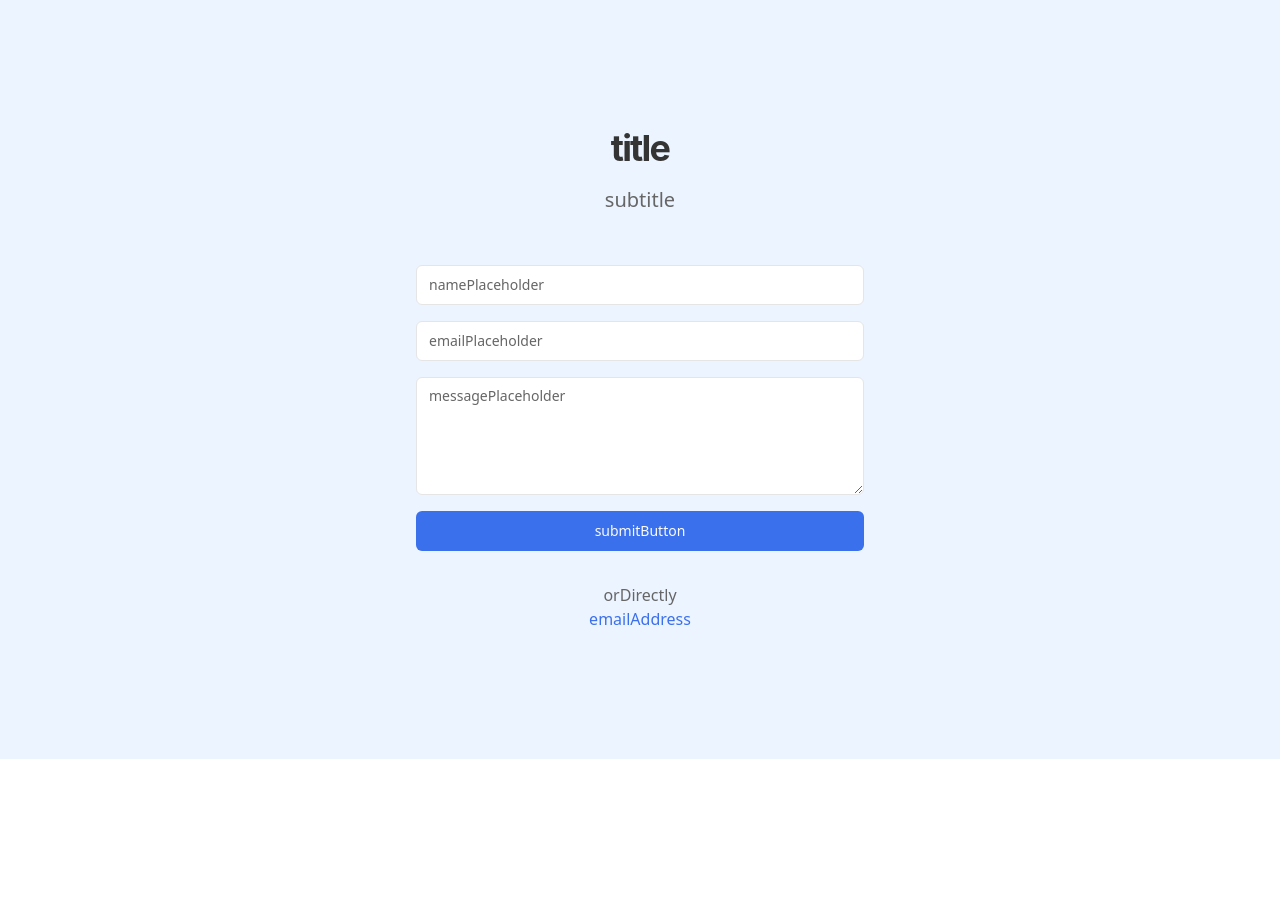
Test: ContactSection deep coverage › handles failed submit with field errors
The width and height of the screenshot is (1280, 900).
Type "John Doe" into the field with placeholder "namePlaceholder".
click(640, 284); type("John Doe")  # box [416, 264, 864, 304]
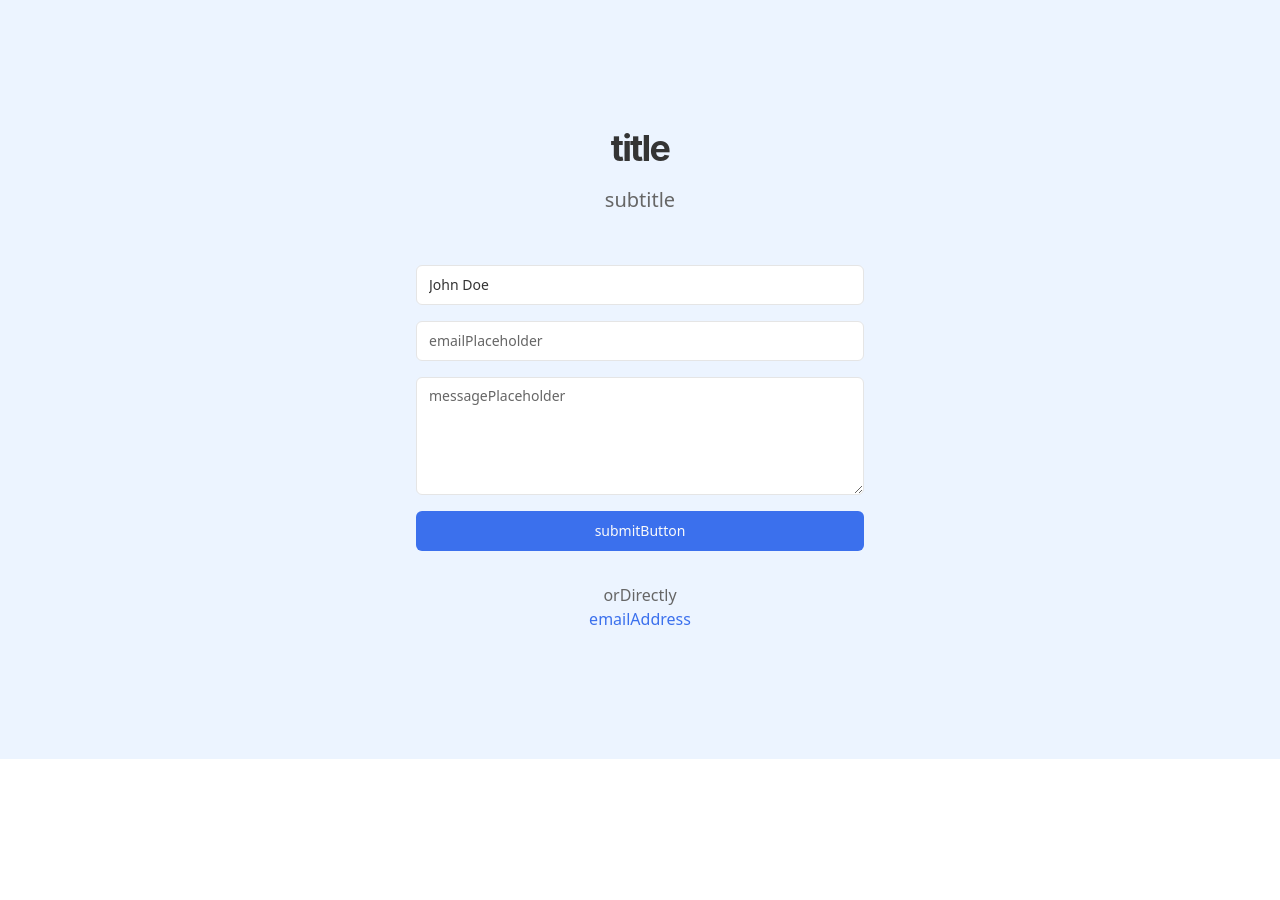
Type "john@example.com" into the field with placeholder "emailPlaceholder".
click(640, 340); type("john@example.com")  # box [416, 320, 864, 360]
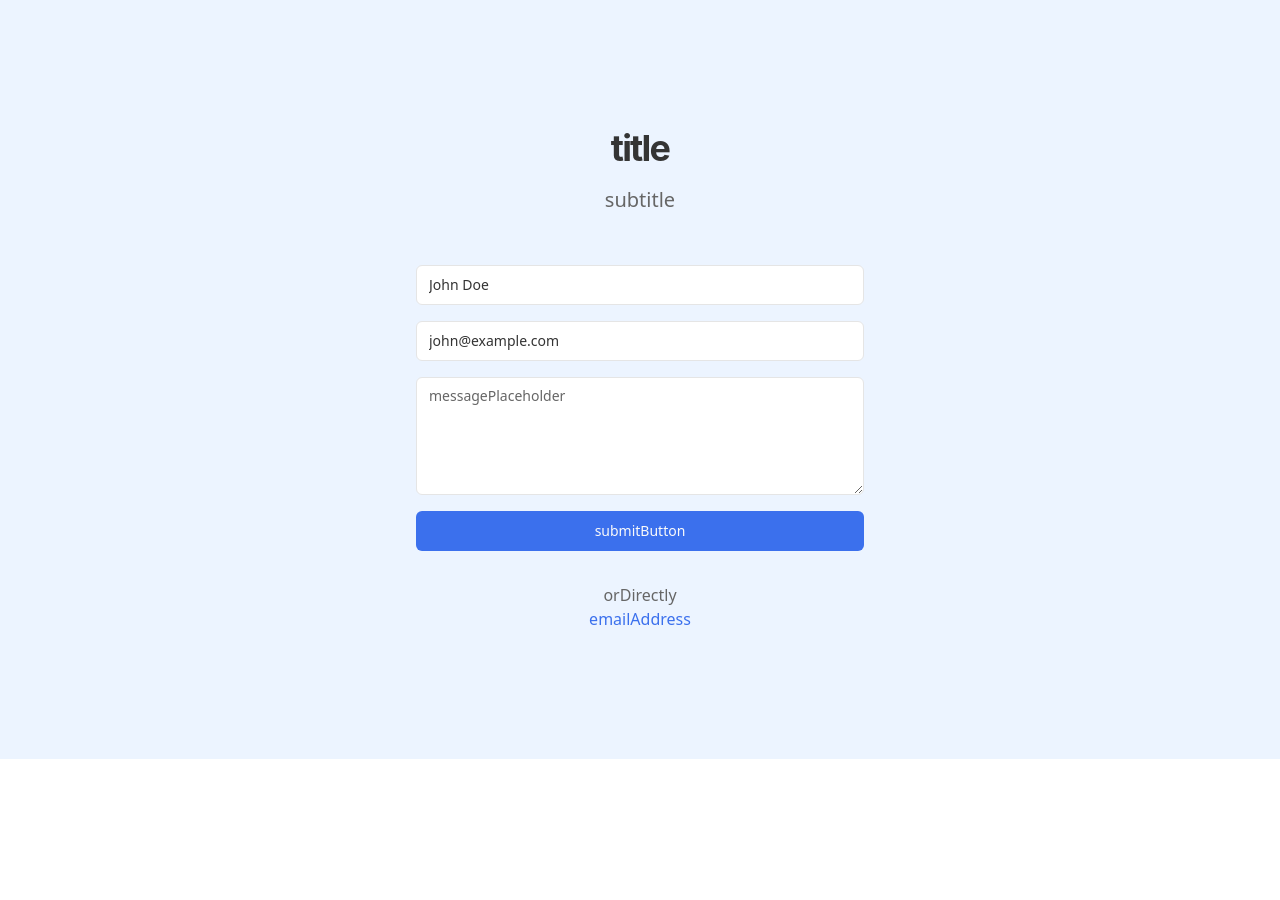
Type "This is a valid message." into the text box with placeholder "messagePlaceholder".
click(640, 436); type("This is a valid message.")  # box [416, 376, 864, 494]
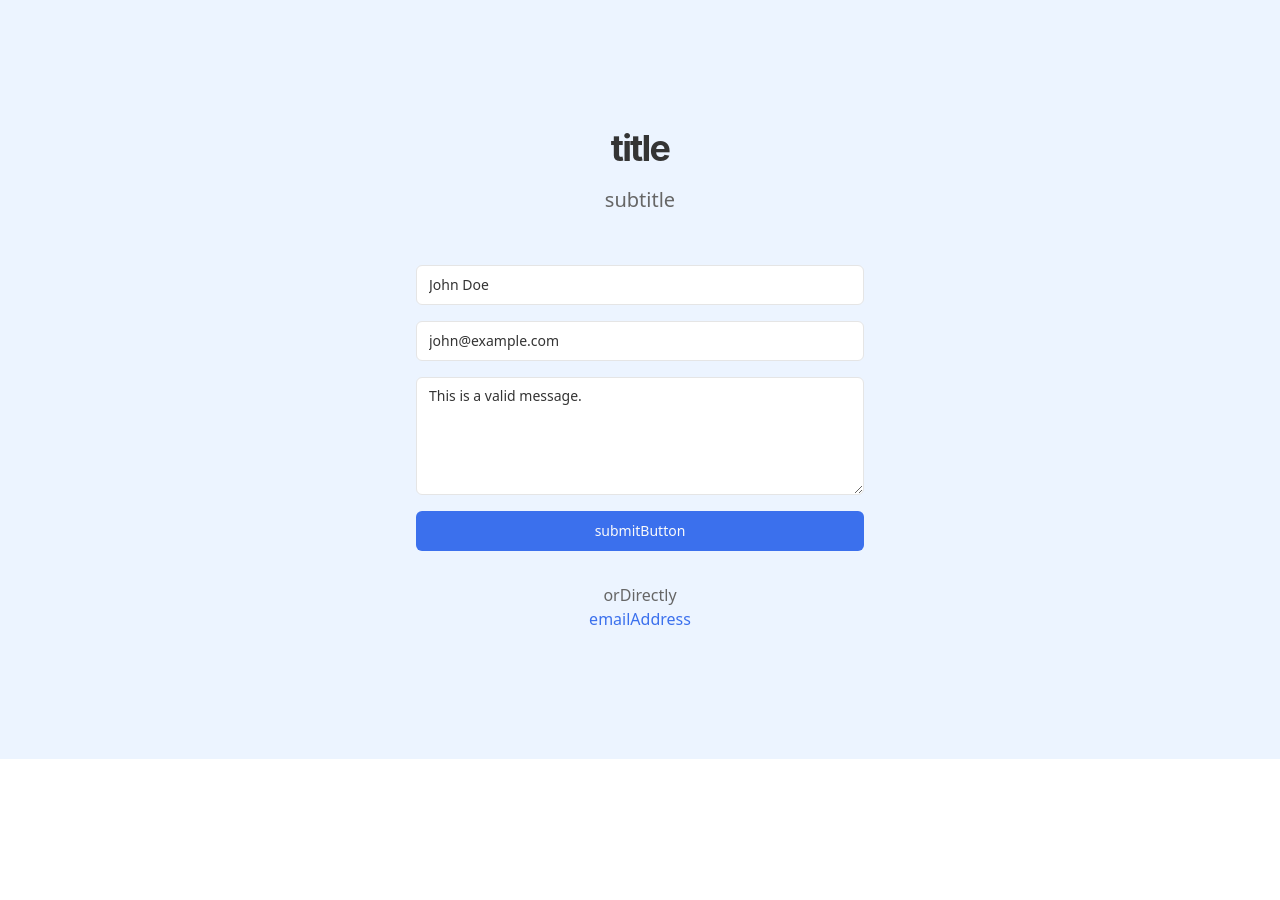
Click the button "submitButton".
click(640, 530)  # box [416, 510, 864, 550]
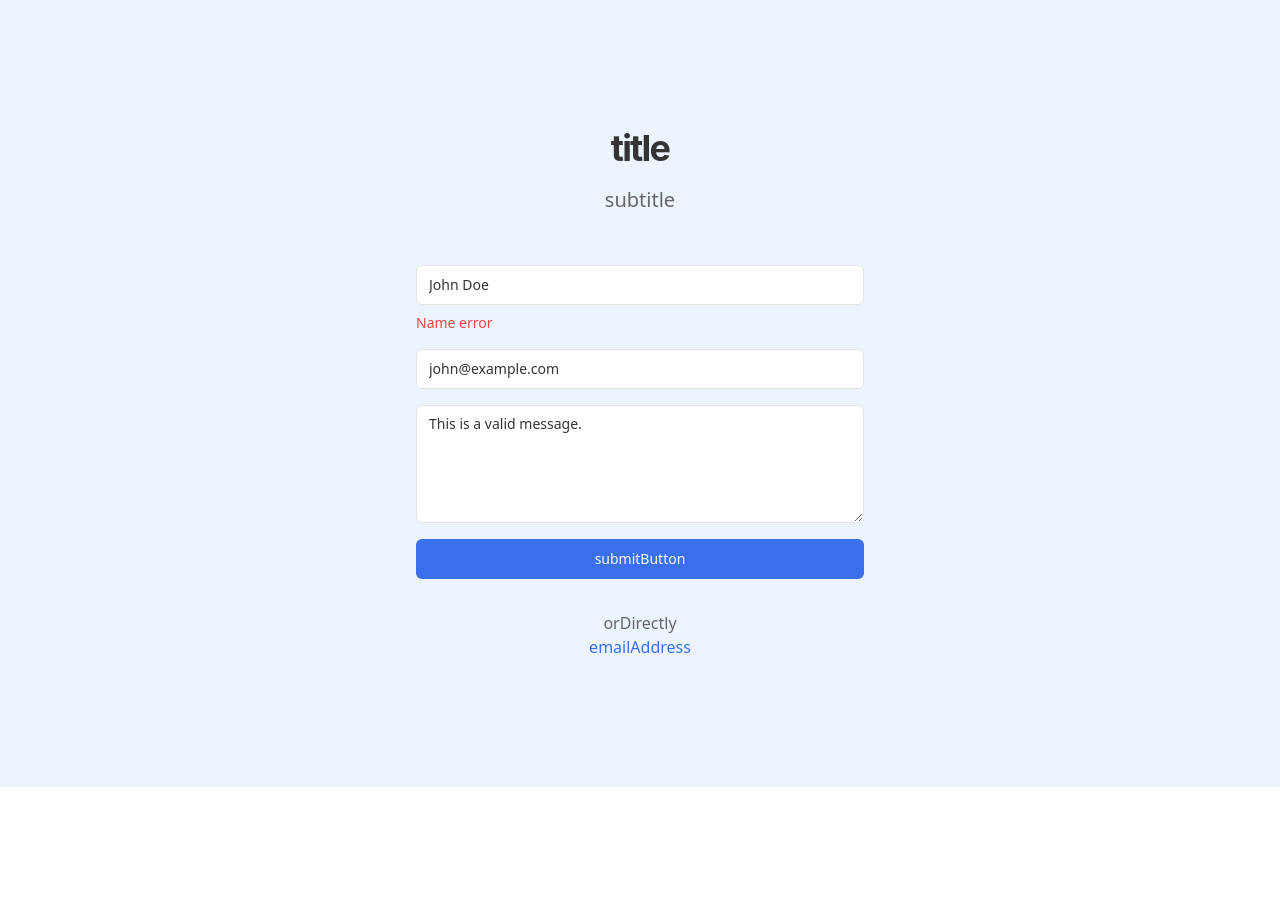
Now the text "Name error" is shown, box [416, 312, 493, 332]
